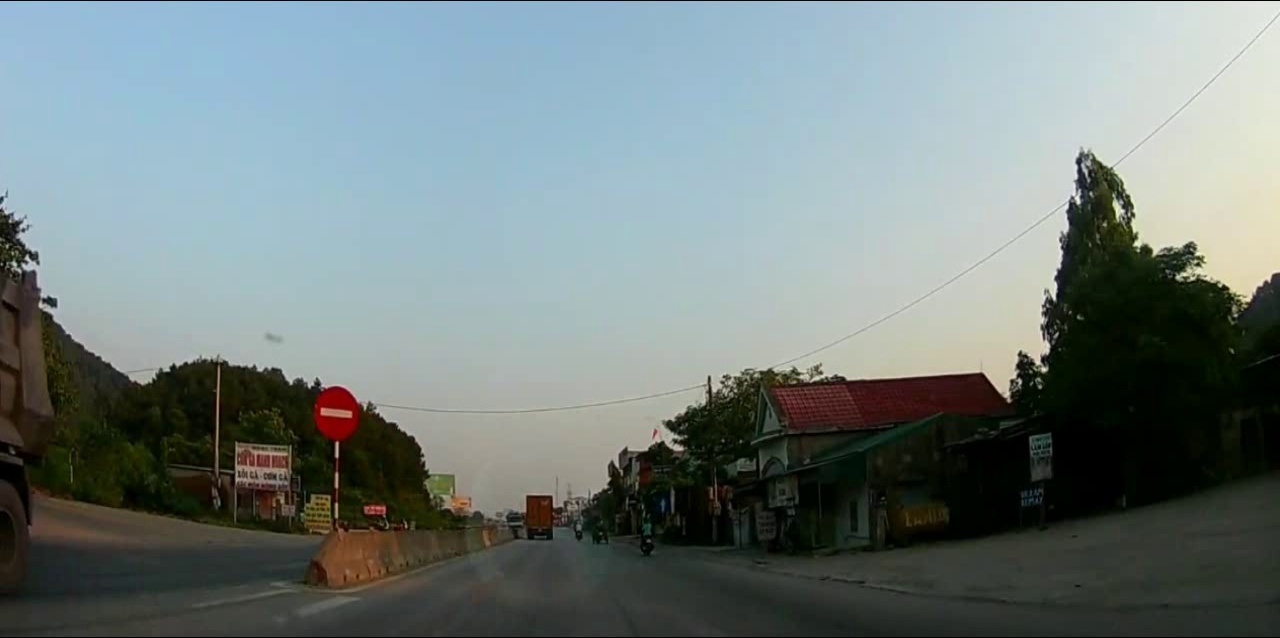Cam di nguoc chieu: (313, 384, 360, 444)
